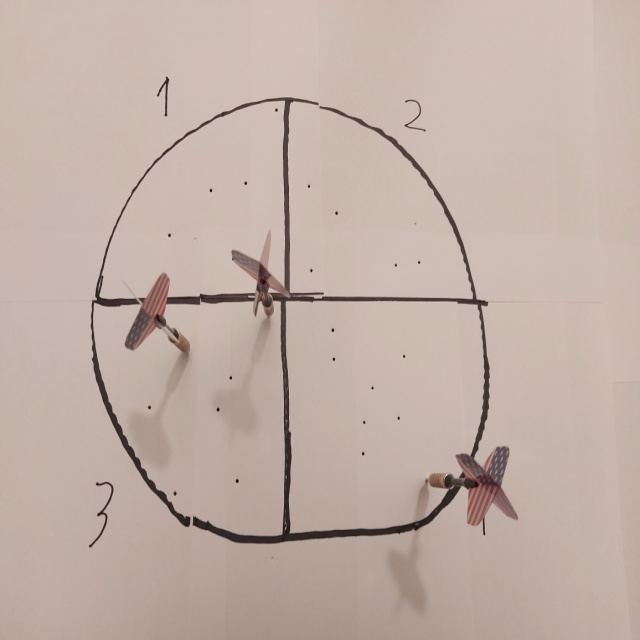Dart: (420, 445, 524, 530), (114, 269, 194, 363), (224, 225, 291, 323)
